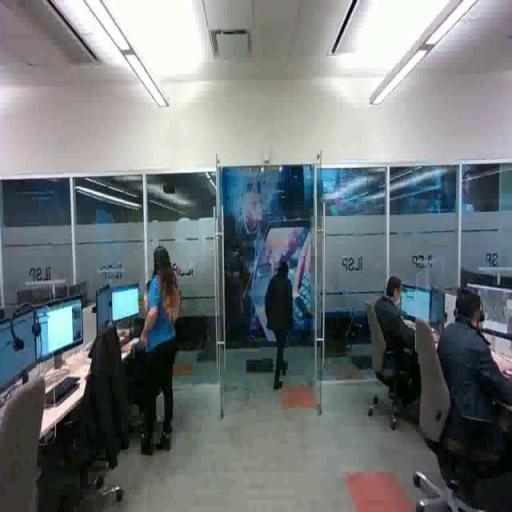person: (434, 288, 512, 495), (373, 274, 435, 420), (140, 245, 182, 459), (264, 261, 298, 396)
